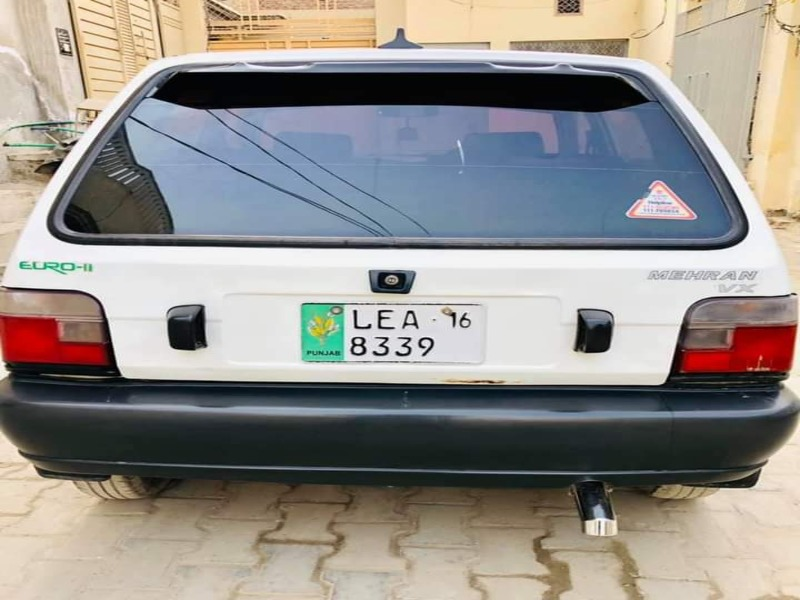License Plate: (299, 300, 490, 364)
